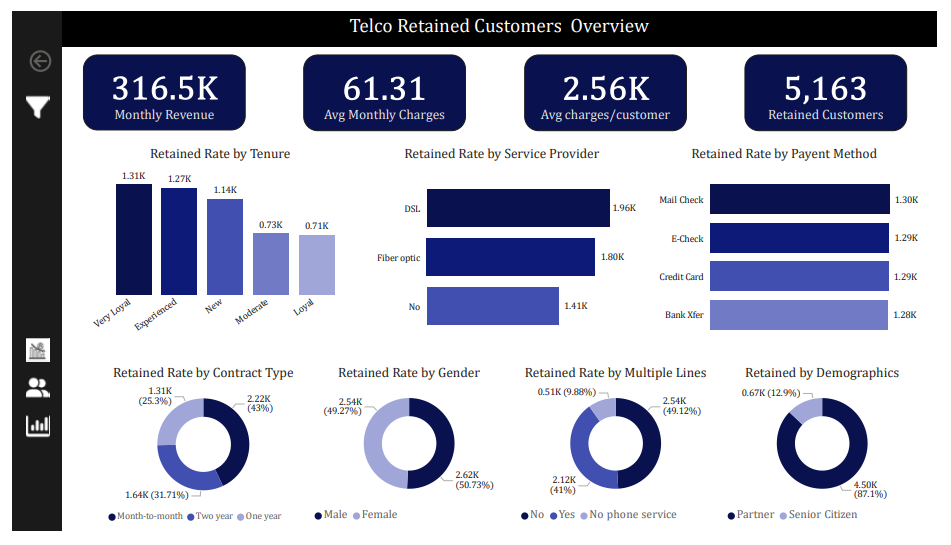

This screenshot's page, from the dashboard's own definition file:
{"tool":"powerbi","page":{"name":"Retained Customers","canvas":[1280,720],"ordinal":1},"visuals":[{"type":"card","title":"Overall Charges","fields":{"Values":["Measure.Monthly Revenue"]},"box":[97.9,60,225,105.1],"z":0},{"type":"actionButton","box":[0,448.6,68.6,40],"z":0,"group":"g1"},{"type":"textbox","box":[69.1,0,1211,49],"z":1000},{"type":"actionButton","box":[0,501.5,68.6,40],"z":1000,"group":"g1"},{"type":"shape","box":[0,0,68.9,720.6],"z":2000},{"type":"actionButton","box":[0,554.3,68.6,40],"z":2000,"group":"g1"},{"type":"card","title":"Overall Charges","fields":{"Values":["Measure.Avg Monthly Charges"]},"box":[403.4,60,225,105.7],"z":3000},{"type":"card","title":"Overall Charges","fields":{"Values":["Measure.Avg Total Charges"]},"box":[708.8,60,225,105.7],"z":4000},{"type":"card","title":"Overall Charges","fields":{"Values":["Measure.Retained Customers"]},"box":[1014.3,60,225,105.7],"z":5000},{"type":"clusteredColumnChart","title":"Retained Rate  by Tenure","fields":{"Category":["Telco-Customer-Churn.Tenure Group"],"Y":["Count(Telco-Customer-Churn.customerID)"]},"box":[97.9,187.2,380,280.8],"z":6000},{"type":"clusteredBarChart","title":"Retained Rate by Service Provider","fields":{"Y":["CountNonNull(Telco-Customer-Churn.customerID)"],"Category":["Telco-Customer-Churn.InternetService"]},"box":[488.2,187.1,380,281.4],"z":7000},{"type":"donutChart","title":"Retained Rate by Contract Type","fields":{"Category":["Telco-Customer-Churn.Contract"],"Y":["Count(Telco-Customer-Churn.customerID)"]},"box":[126.7,491,275,229],"z":8000},{"type":"donutChart","title":"Retained Rate  by Gender","fields":{"Y":["Count(Telco-Customer-Churn.customerID)"],"Category":["Telco-Customer-Churn.gender"]},"box":[412.3,491,275,229],"z":9000},{"type":"donutChart","title":"Retained Rate  by Multiple Lines ","fields":{"Y":["Count(Telco-Customer-Churn.customerID)"],"Category":["Telco-Customer-Churn.MultipleLines"]},"box":[697.9,491,275,229],"z":10000},{"type":"donutChart","title":"Retained  by Demographics","fields":{"Category":["Telco-Customer-Churn.Demographic"],"Y":["Count(Telco-Customer-Churn.customerID)"]},"box":[983.5,491,275,229],"z":11000},{"type":"clusteredBarChart","title":"Retained Rate by Payent Method","fields":{"Y":["CountNonNull(Telco-Customer-Churn.customerID)"],"Category":["Telco-Customer-Churn.AbbreviatedPayment"]},"box":[878.6,187.1,380,281.4],"z":12000},{"type":"actionButton","box":[18.6,48.6,50,40],"z":13000},{"type":"actionButton","box":[0,112.9,68.6,40],"z":14000},{"type":"group","id":"g1","title":"Page Navigation","box":[0,448.6,68.6,145.7],"z":15000}]}

Visuals, with their boxes on the page's 1280x720 design canvas (x1, y1, x2, y2). These are canvas units, not pixel positions in the 951x545 screenshot, which may show the page scaled, cropped or inside an application window:
"Overall Charges" card: [98, 60, 323, 165]
actionButton: [0, 449, 69, 489]
textbox: [69, 0, 1280, 49]
actionButton: [0, 502, 69, 542]
shape: [0, 0, 69, 721]
actionButton: [0, 554, 69, 594]
"Overall Charges" card: [403, 60, 628, 166]
"Overall Charges" card: [709, 60, 934, 166]
"Overall Charges" card: [1014, 60, 1239, 166]
"Retained Rate  by Tenure" clusteredColumnChart: [98, 187, 478, 468]
"Retained Rate by Service Provider" clusteredBarChart: [488, 187, 868, 468]
"Retained Rate by Contract Type" donutChart: [127, 491, 402, 720]
"Retained Rate  by Gender" donutChart: [412, 491, 687, 720]
"Retained Rate  by Multiple Lines " donutChart: [698, 491, 973, 720]
"Retained  by Demographics" donutChart: [984, 491, 1258, 720]
"Retained Rate by Payent Method" clusteredBarChart: [879, 187, 1259, 468]
actionButton: [19, 49, 69, 89]
actionButton: [0, 113, 69, 153]
"Page Navigation" group: [0, 449, 69, 594]
